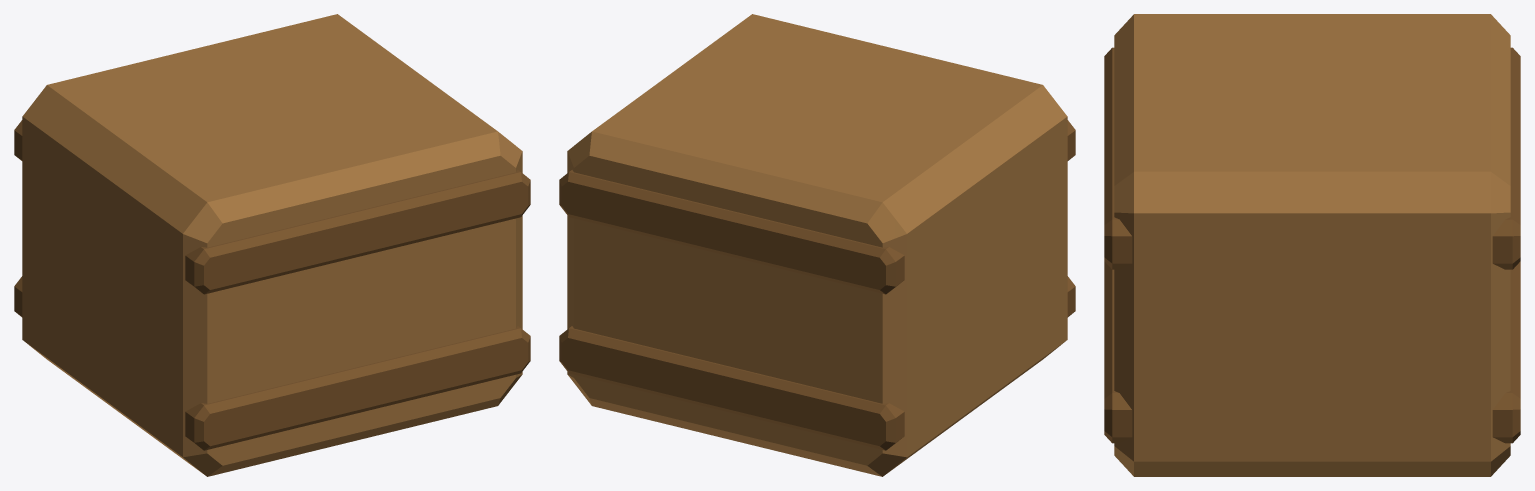
Rendered from crate.glb.
3 views of the same model, side by side, from view 1: azimuth 30°, elevation 25°; view 2: azimuth 150°, elevation 25°; view 3: azimuth 270°, elevation 25° (orthographic). The views are drawn at different scales.
Visible parts, largest first — view 1: crate_wood; view 2: crate_wood; view 3: crate_wood.
Boxes of the visible parts, bbox=[...] form: crate_wood: bbox=[14, 14, 530, 476]; crate_wood: bbox=[559, 14, 1075, 476]; crate_wood: bbox=[1104, 14, 1520, 476].
Bounding box in the file's own units: 0.66 × 0.51 × 0.63.
